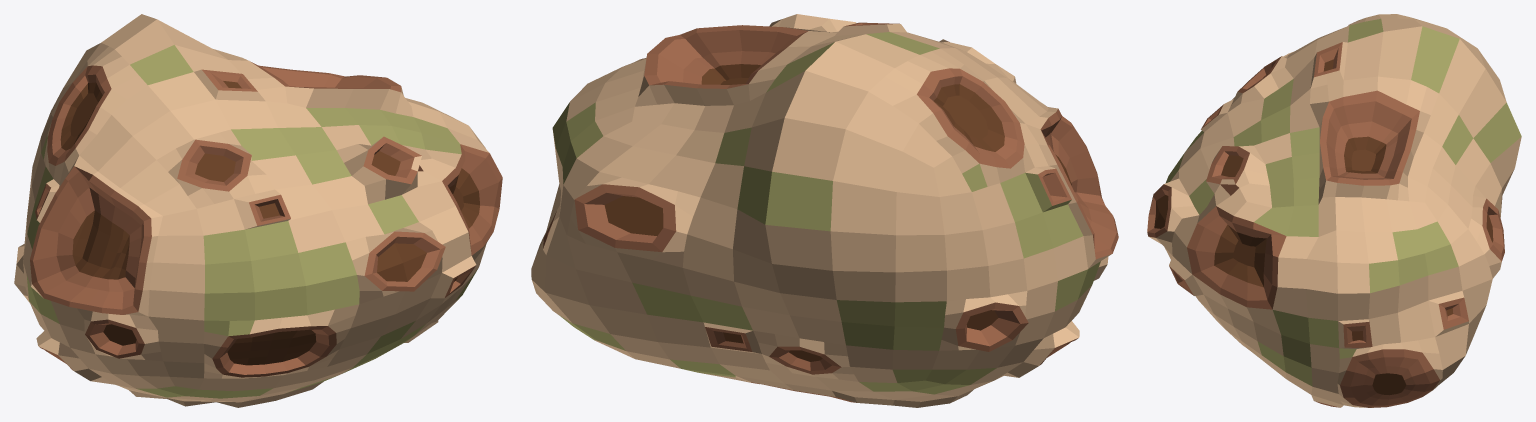
File: Potato.fbx
3 renders of one model, left to right at view 1: azimuth 30°, elevation 25°; view 2: azimuth 150°, elevation 25°; view 3: azimuth 270°, elevation 25°, orthographic. The views are drawn at different scales.
Visible parts, largest first — view 1: Cube.004; view 2: Cube.004; view 3: Cube.004.
Part boxes in pixels (bbox=[...]): Cube.004: bbox=[14, 14, 502, 407]; Cube.004: bbox=[531, 14, 1118, 407]; Cube.004: bbox=[1147, 14, 1521, 407].
Bounding box in the file's own units: 181 × 129 × 143.
